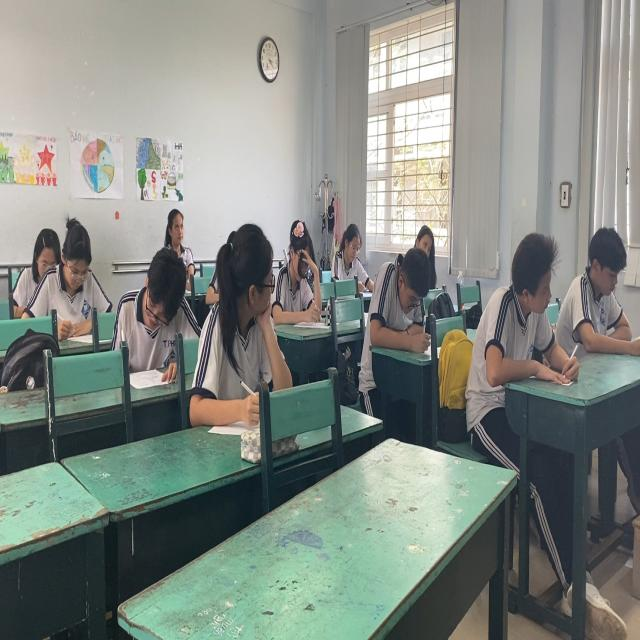cheating: (198, 227, 285, 405)
not_cheating: (470, 230, 574, 392), (29, 214, 109, 333), (577, 217, 640, 359), (124, 254, 209, 353), (368, 247, 435, 362), (275, 214, 322, 323), (159, 198, 200, 264), (331, 223, 368, 287), (412, 221, 441, 260)
